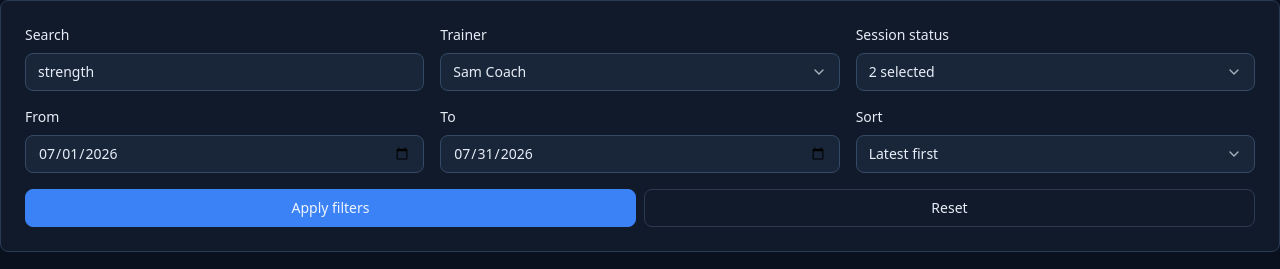
Test: SessionsFilters › resets every draft filter and navigates to the base URL
Click the button "Reset" at (950, 208), box [644,189,1255,227]
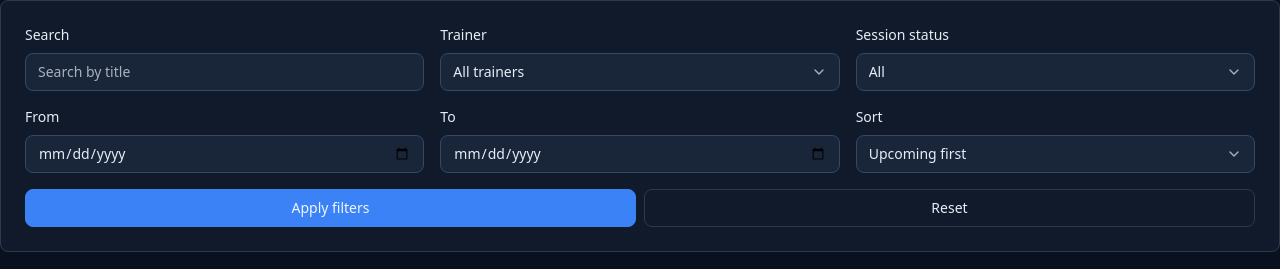
Result: the search field labelled "Search" is empty at [25,53,424,91]
Result: the button with aria-label "Trainer: All trainers" is shown at [440,53,840,91]
Result: the button with aria-label "Session status: All" is shown at [856,53,1255,91]
